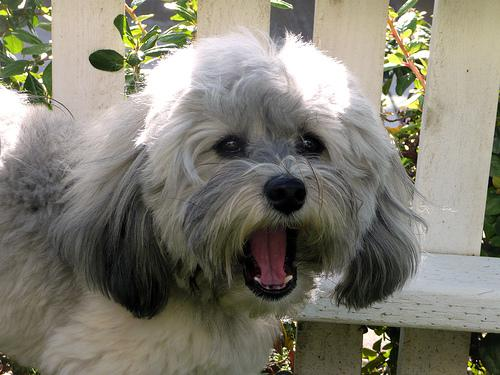dog-havanese: (51, 36, 412, 317)
